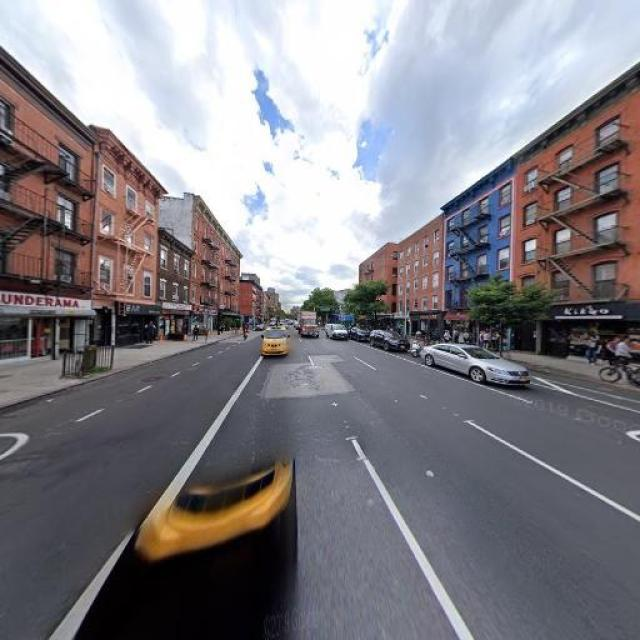Building: (517, 63, 640, 374), (1, 49, 93, 364), (447, 158, 511, 354), (99, 124, 153, 349), (399, 218, 444, 344), (158, 227, 198, 339)
